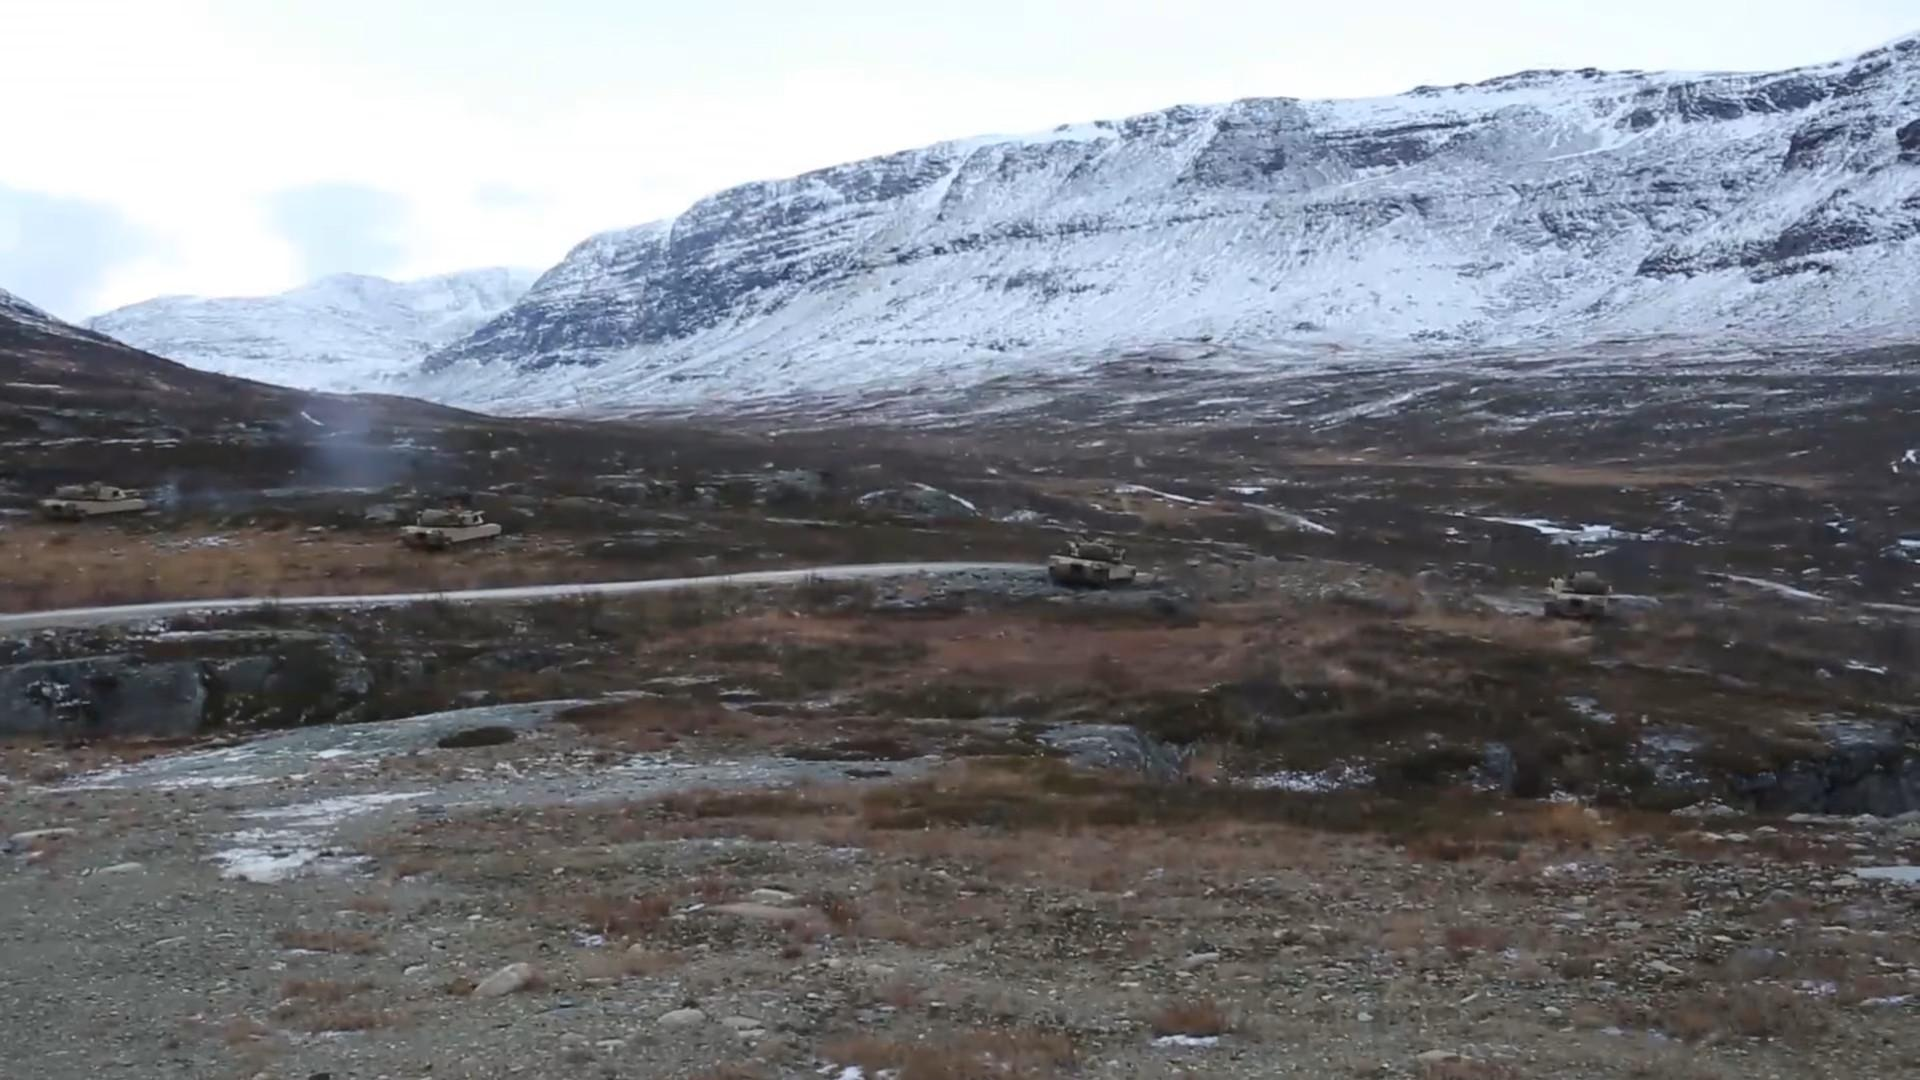tank: (1050, 534, 1137, 588), (402, 509, 501, 551), (1543, 571, 1609, 620)
